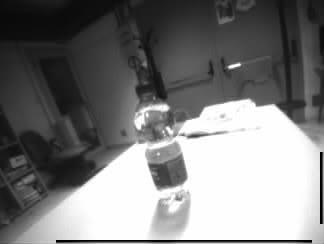Bottle: (138, 84, 188, 199)
